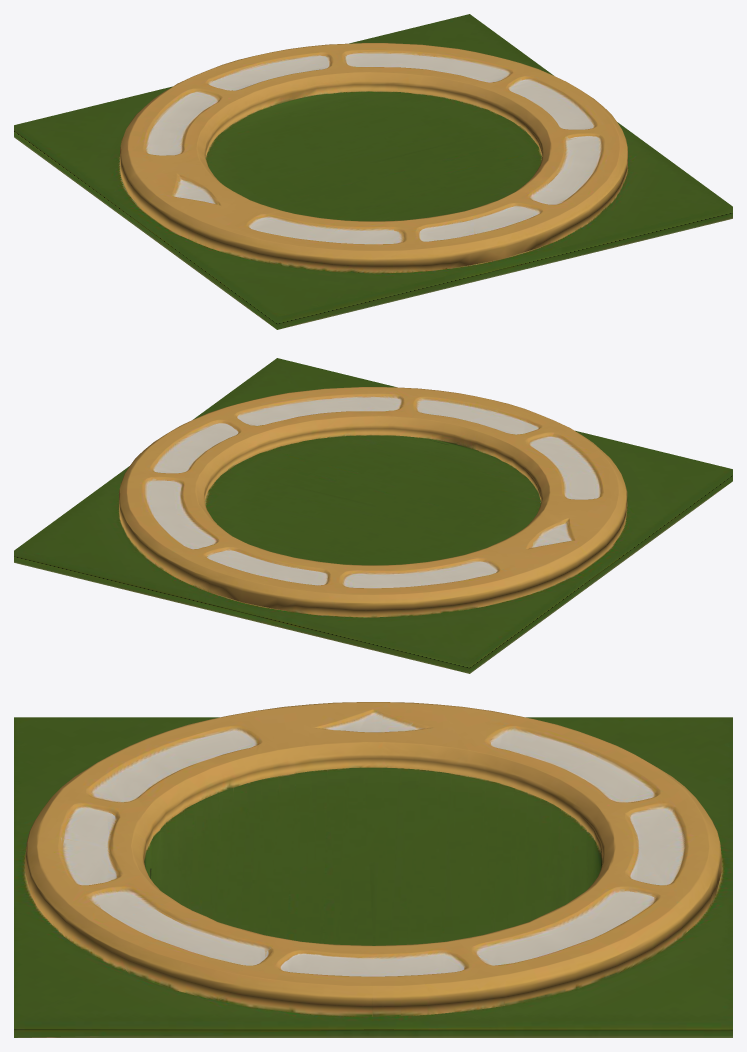
The model's file is player-selection-ring.glb.
3 renders of one model, top to bottom at view 1: azimuth 30°, elevation 25°; view 2: azimuth 150°, elevation 25°; view 3: azimuth 270°, elevation 25°, orthographic. The views are drawn at different scales.
Parts seen in each view (by area): view 1: Controlled-player selection ring; view 2: Controlled-player selection ring; view 3: Controlled-player selection ring.
Part boxes in pixels (x1,y1,x2,y2): Controlled-player selection ring: (14, 14, 732, 329); Controlled-player selection ring: (14, 358, 732, 673); Controlled-player selection ring: (14, 702, 732, 1037).
Bounding box in the file's own units: 0.998 × 0.0645 × 0.998.
1 material, 1 textured.
